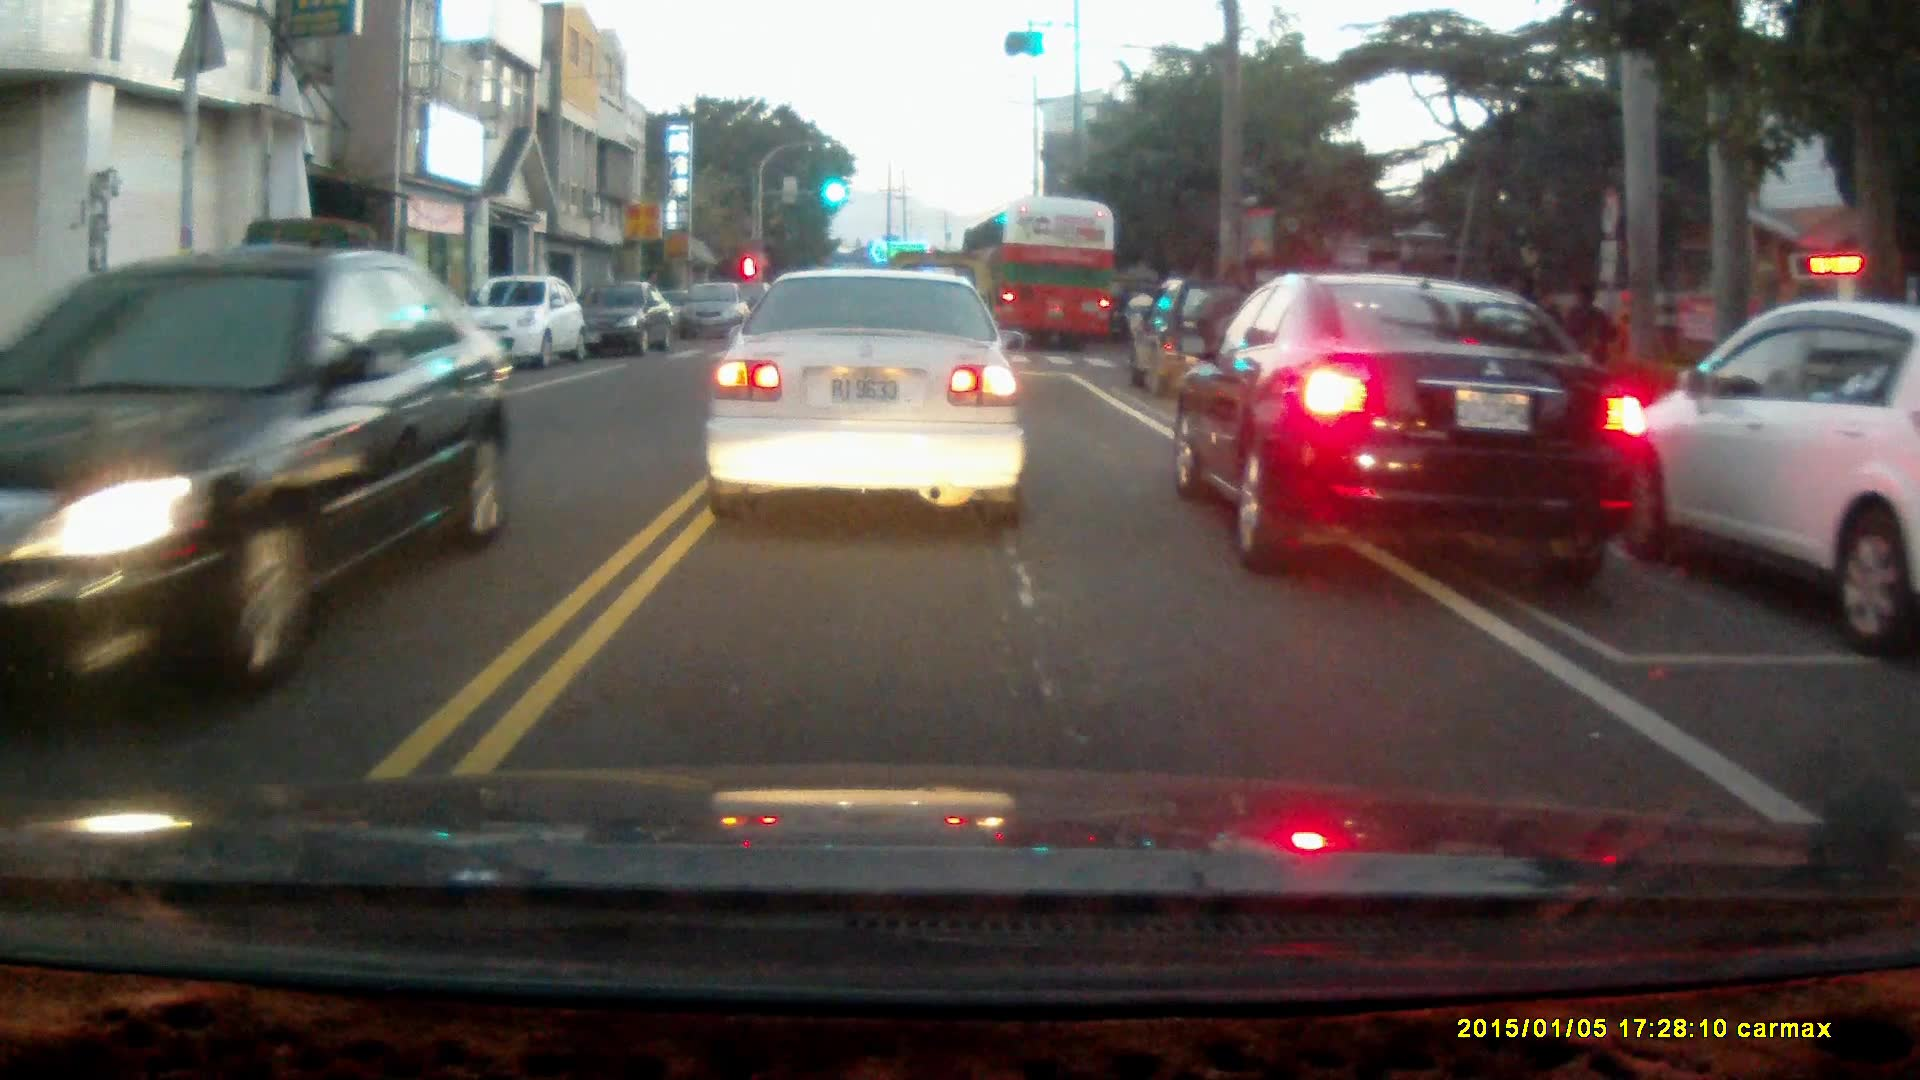pedestrian: (1562, 278, 1614, 408)
vehicle: (1, 247, 517, 735), (1172, 274, 1655, 574), (1598, 297, 1920, 619), (704, 264, 1029, 528), (191, 216, 429, 406), (962, 202, 1115, 356), (1133, 279, 1286, 401), (452, 277, 592, 377), (571, 277, 678, 361), (679, 284, 755, 343)
